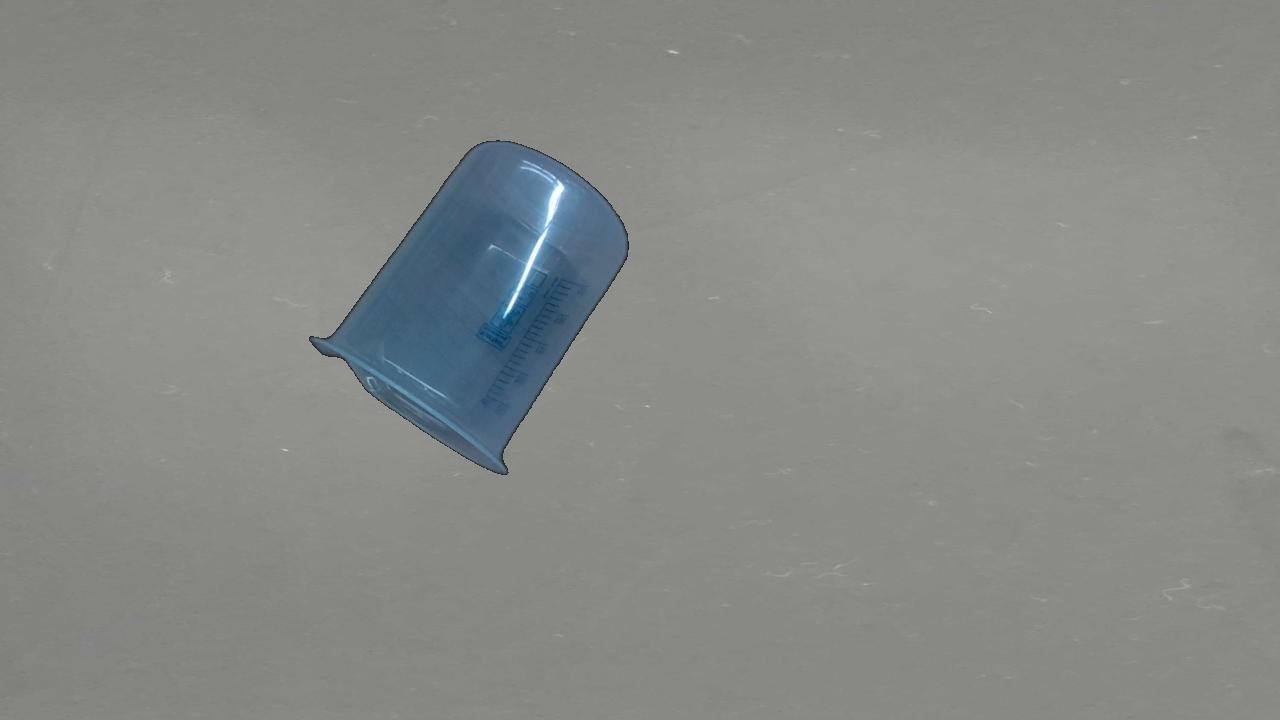cup: (306, 139, 631, 477)
